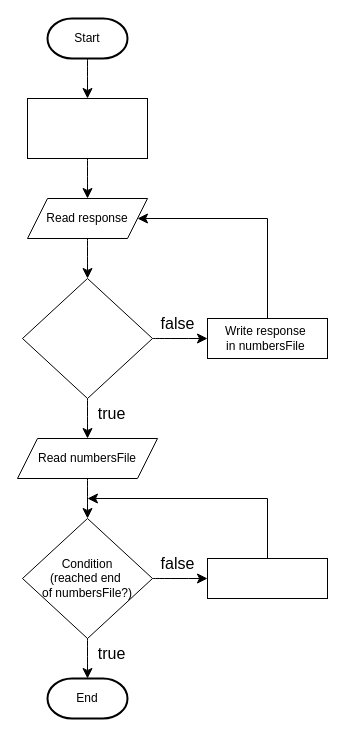
Image size: 345x736. Some labels were removed from this diagram. Each missing label, with the centre of its shape:
Declare variable response, numbersFile, outputFile: the point at 87,128
response > 10 && response <= 0: the point at 87,338
Write response in outputFile: the point at 267,578
